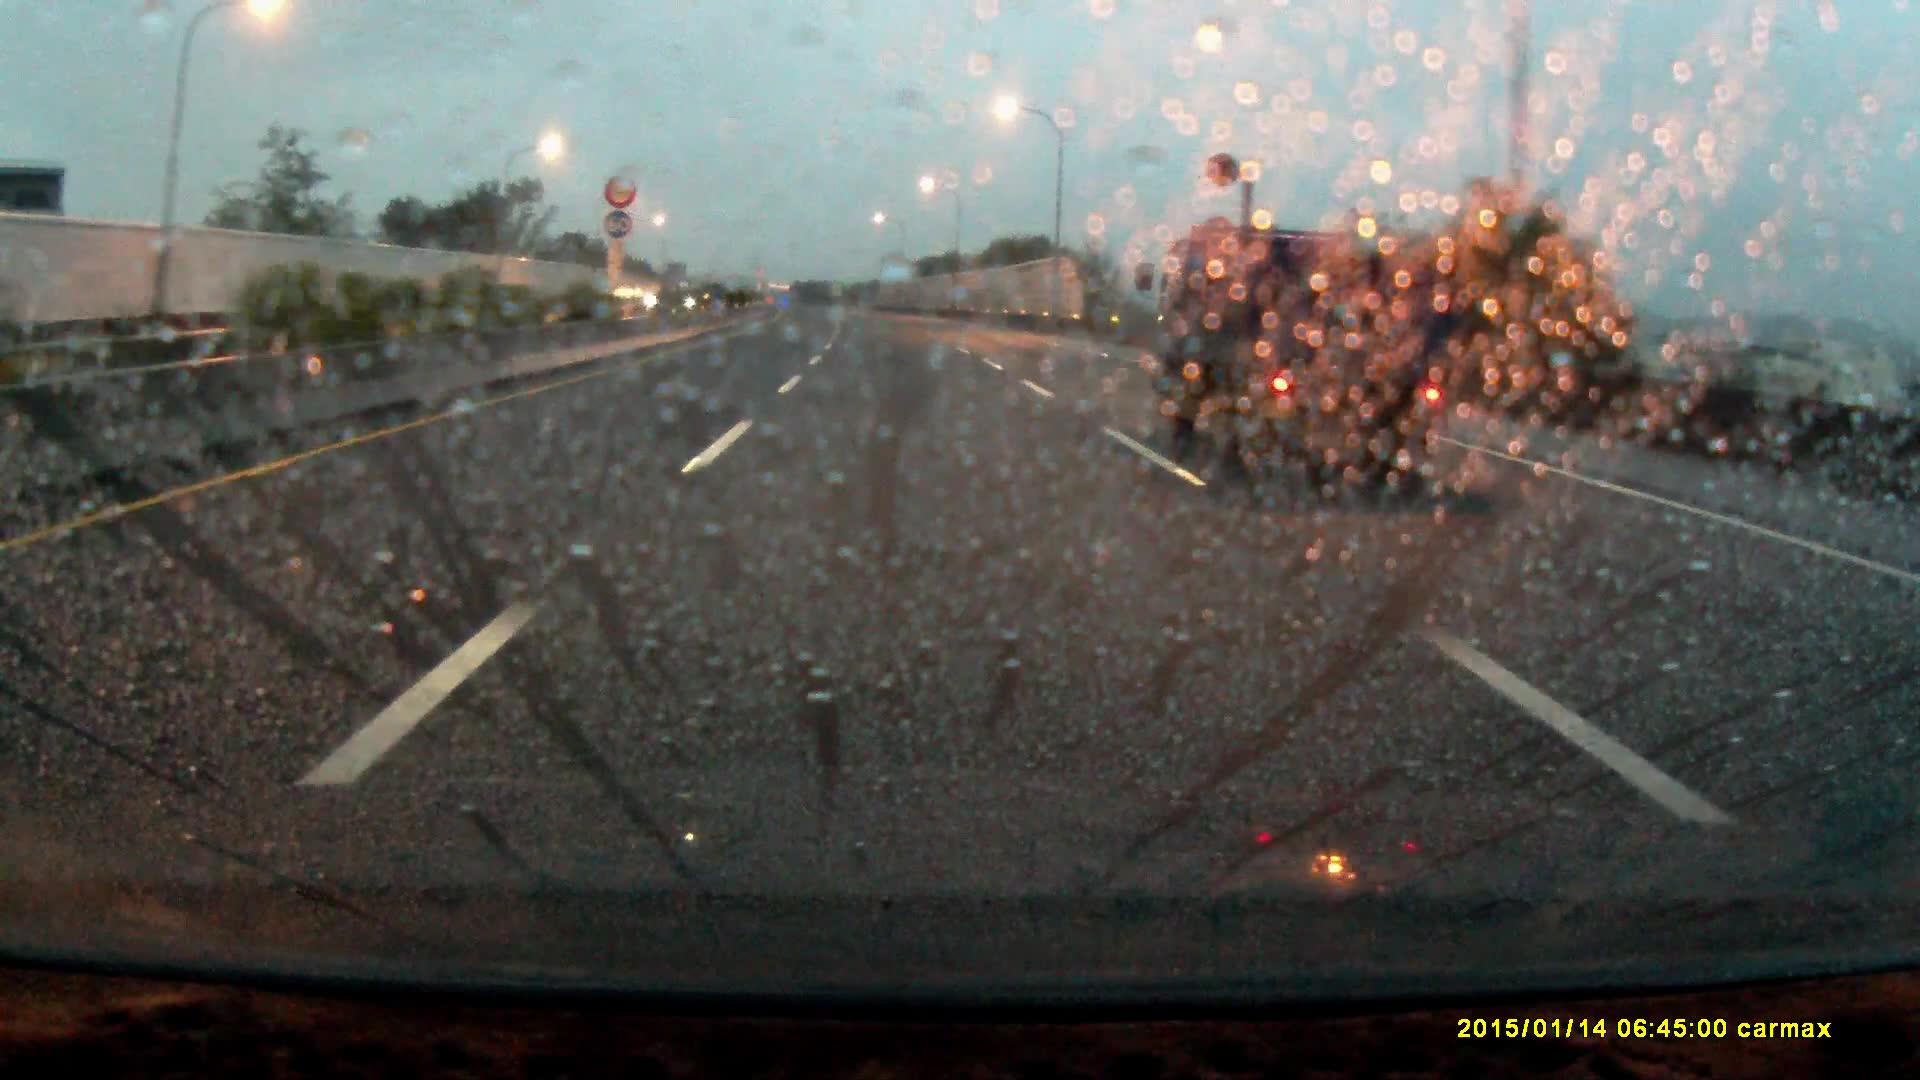vehicle: (1185, 208, 1478, 506)
